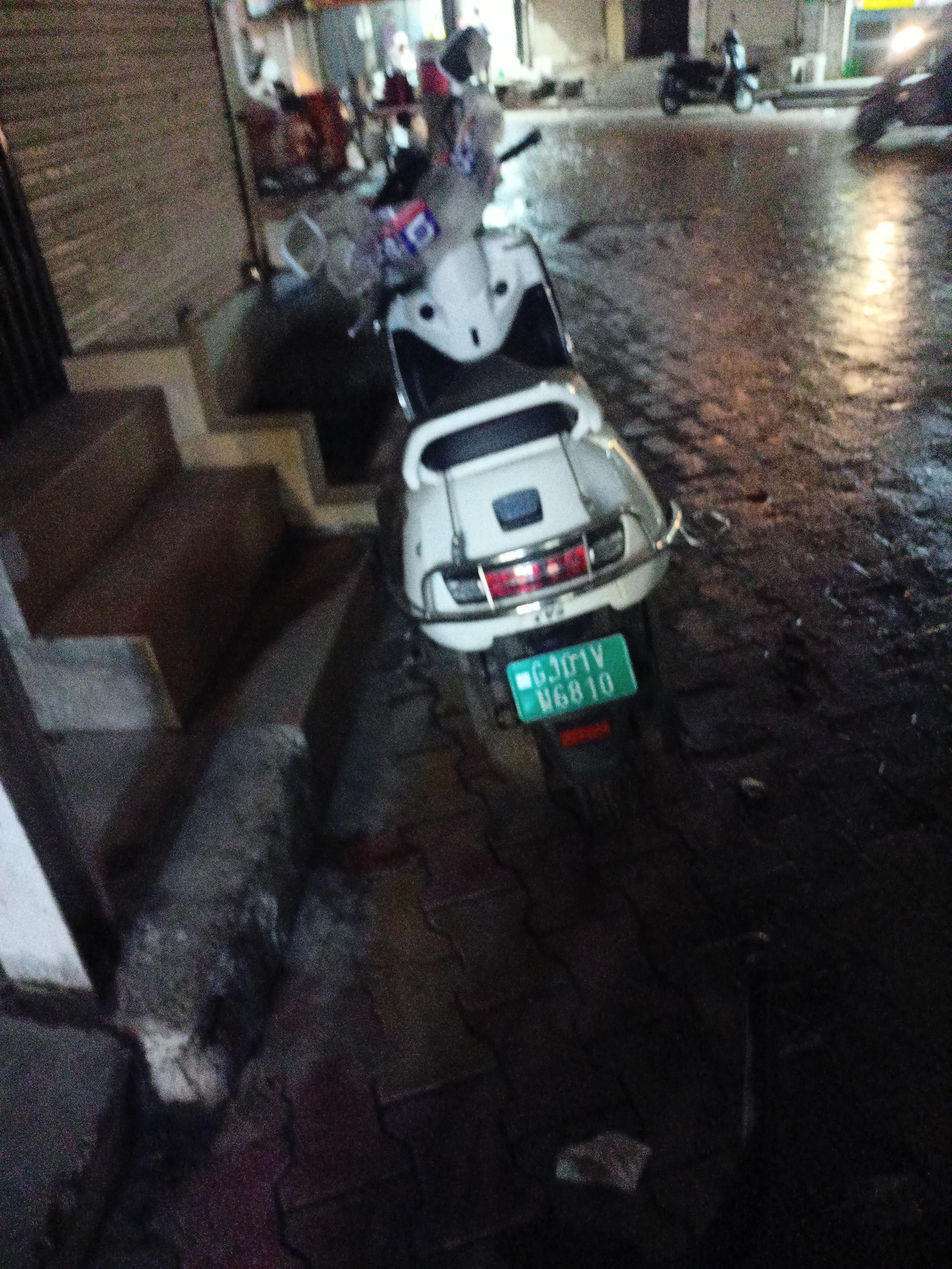green license plate: (501, 635, 644, 718)
